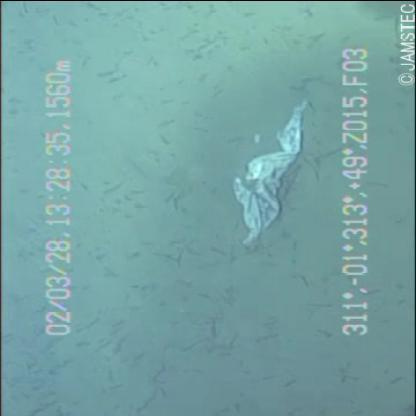Rác: (210, 91, 316, 269)
